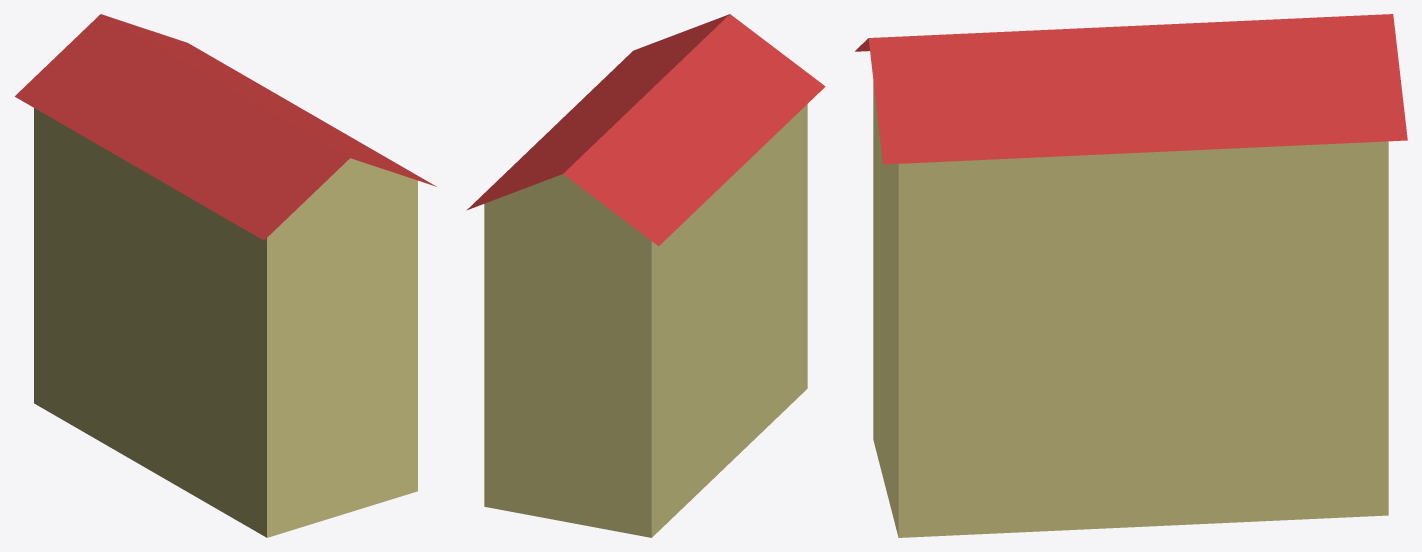
3 renders of one model, left to right at view 1: azimuth 30°, elevation 25°; view 2: azimuth 150°, elevation 25°; view 3: azimuth 270°, elevation 25°, orthographic. The views are drawn at different scales.
Bounding box in the file's own units: 4.65 × 7.96 × 7.16.
